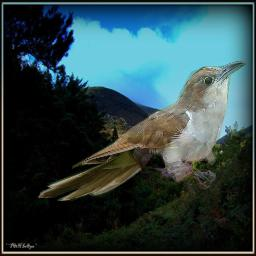Cuckoo: (37, 60, 246, 201)
